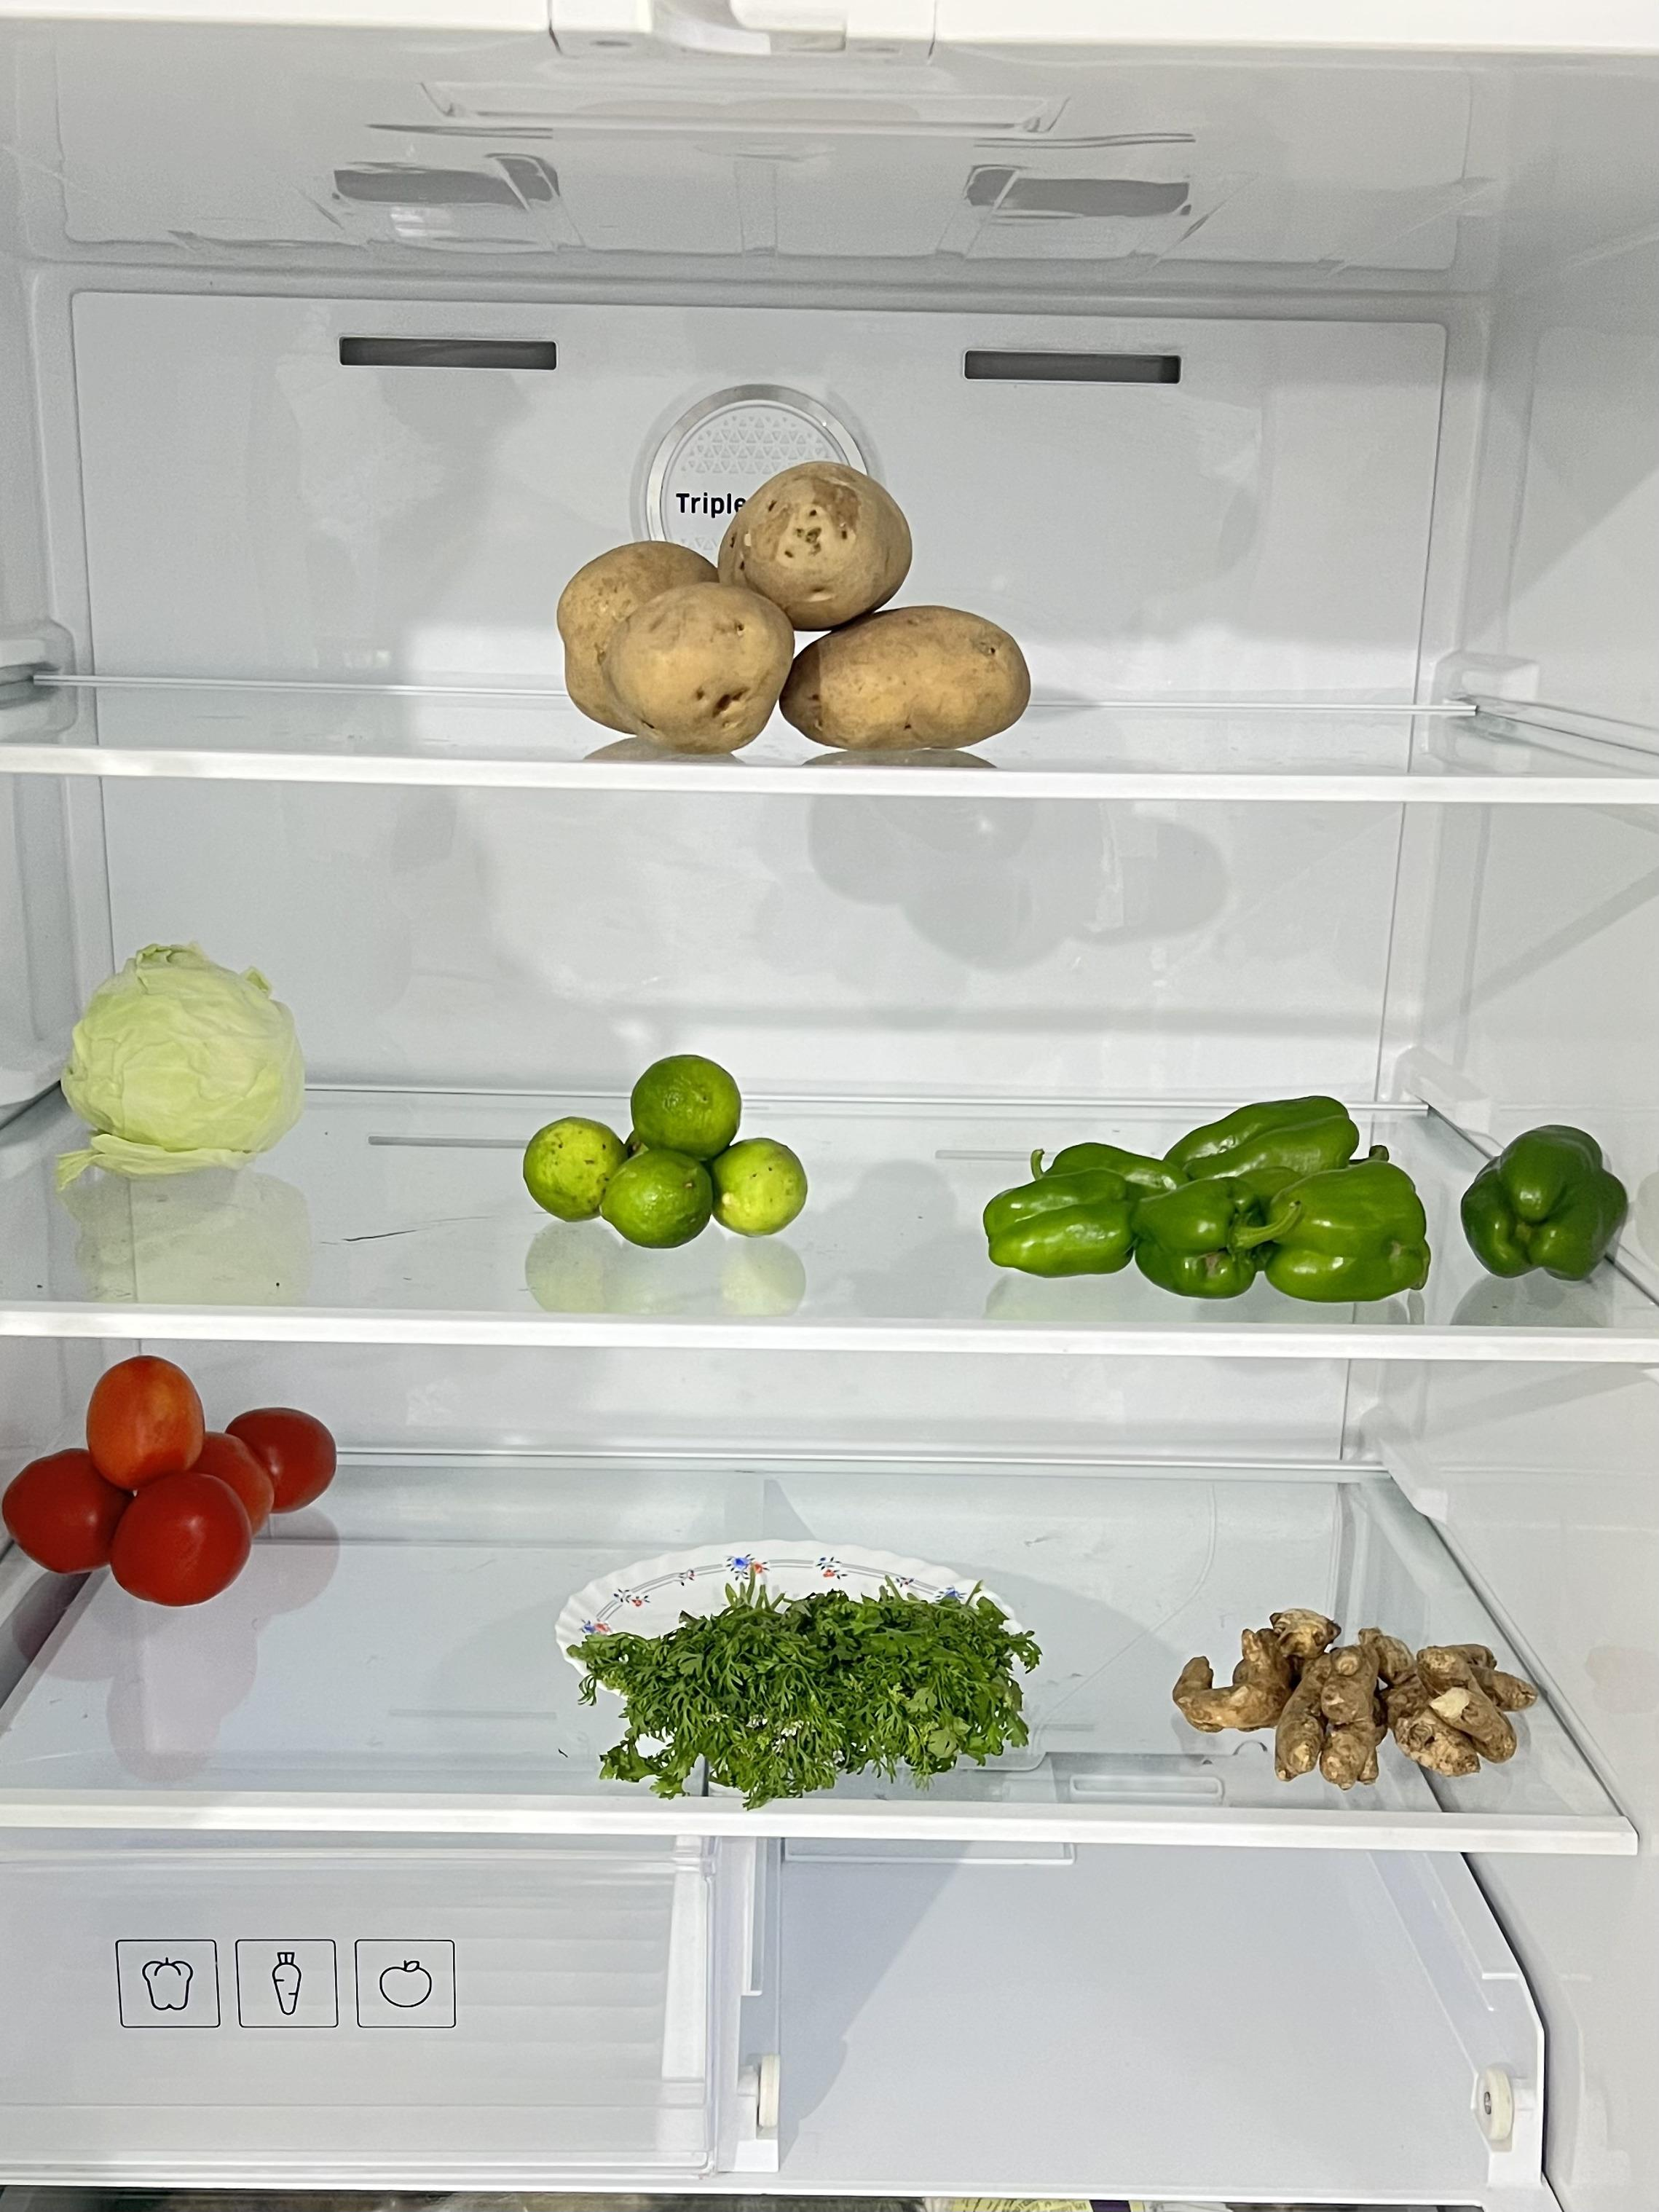cabbage: (66, 940, 300, 1164)
capsicum: (983, 1091, 1624, 1299)
coriander: (556, 1569, 1037, 1788)
ginger: (1175, 1604, 1535, 1783)
lemon: (528, 1051, 805, 1253)
potato: (556, 453, 1026, 753)
tomato: (12, 1349, 338, 1600)
